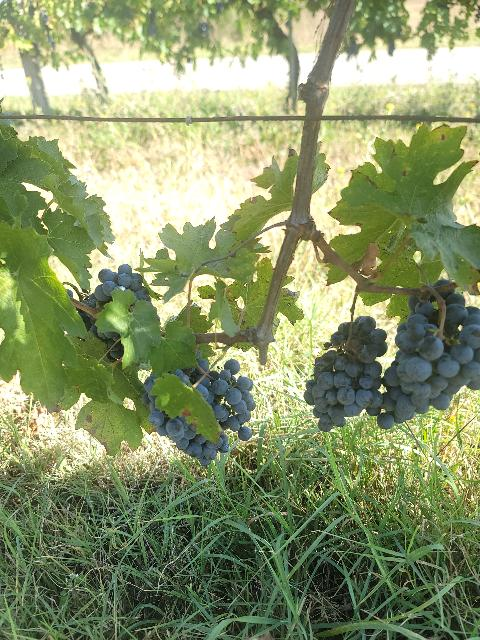grapes: (378, 302, 480, 429), (305, 316, 388, 430), (85, 264, 151, 308)
